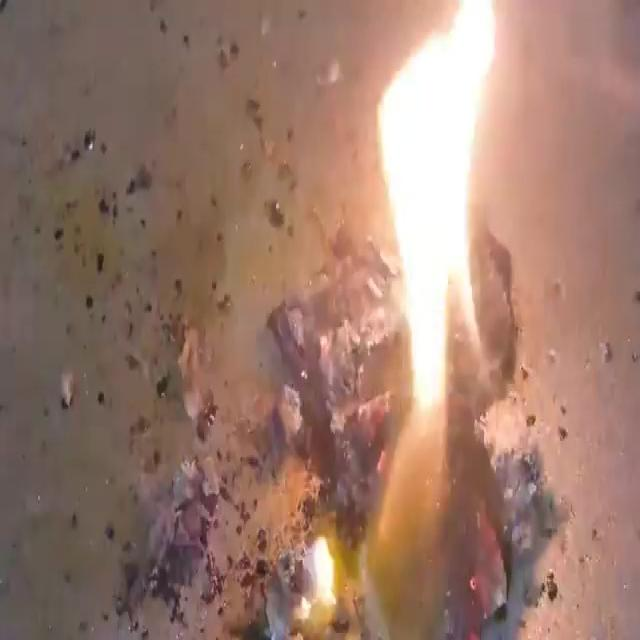Fire: (283, 3, 578, 640)
